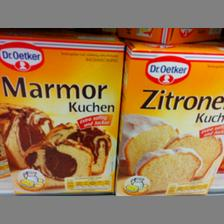Kuchen: (0, 32, 124, 192), (115, 34, 223, 194)
